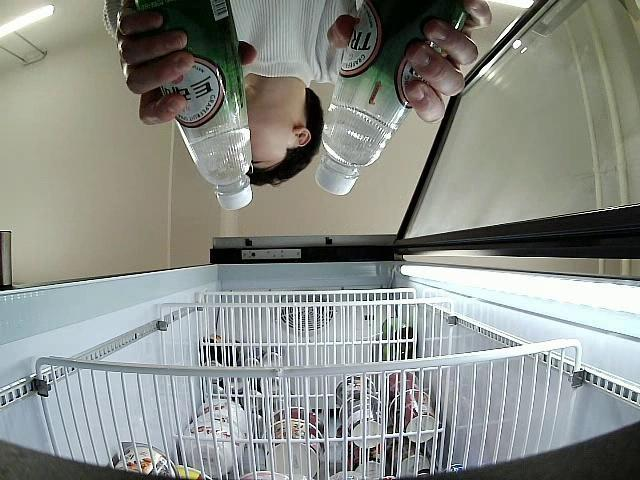18_trevi: (314, 0, 470, 196), (121, 0, 253, 212)
